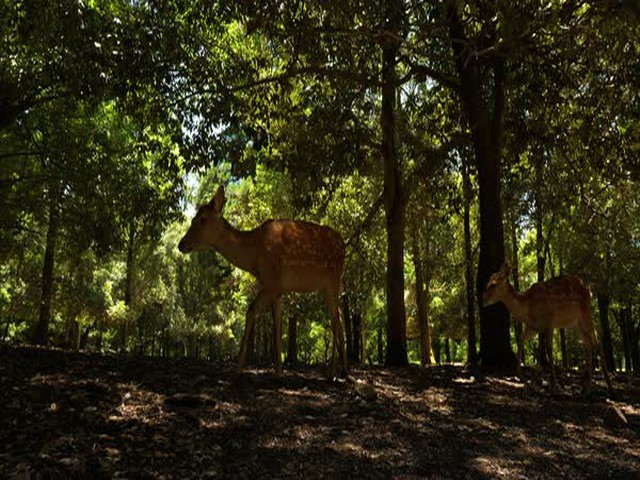deer: (173, 168, 358, 376), (478, 256, 607, 383)
